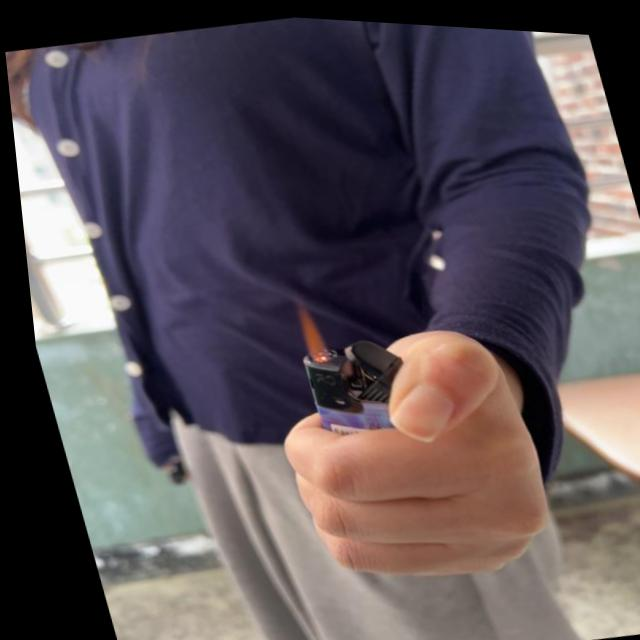Fire: (279, 299, 325, 362)
